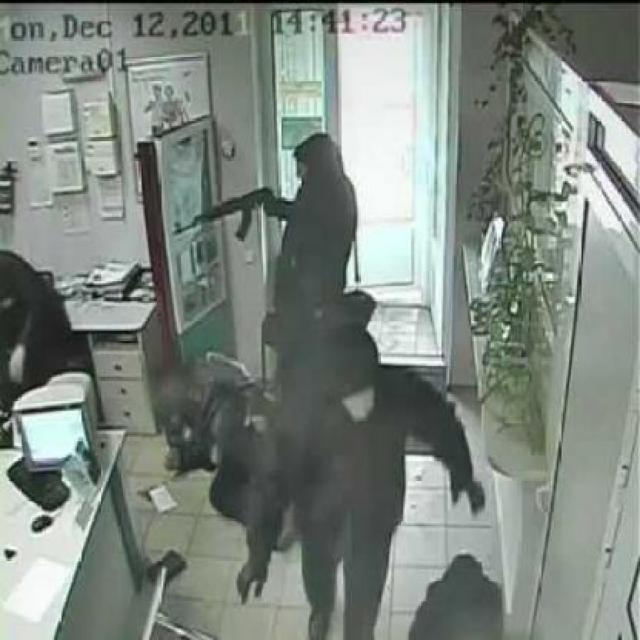weapon: (161, 185, 294, 252)
